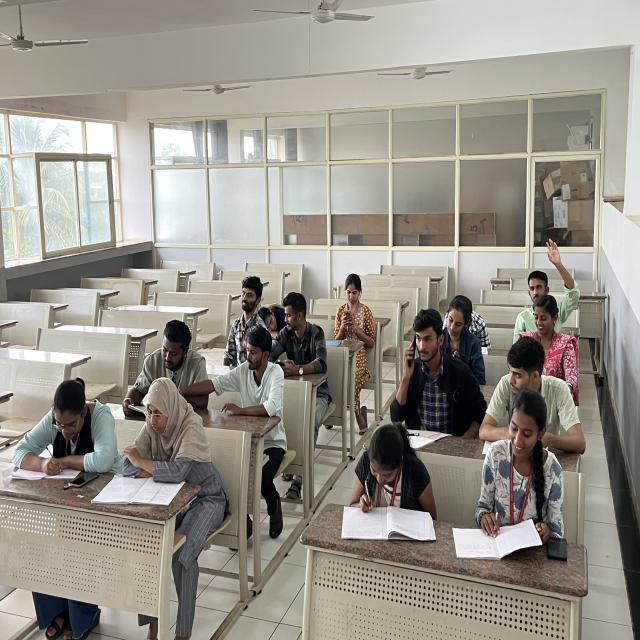Hand Rising: (514, 238, 581, 358)
Reading: (121, 375, 237, 511), (116, 293, 217, 421), (423, 271, 496, 388)
Sleeping: (256, 302, 292, 340)
Using Phone: (386, 289, 479, 443), (272, 292, 328, 376), (329, 273, 384, 342)
Writing: (471, 384, 591, 593), (13, 376, 120, 476), (344, 424, 441, 533)
